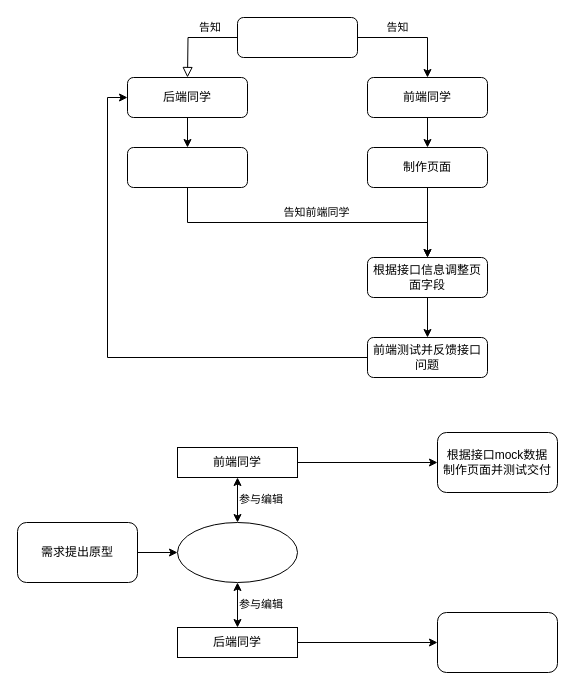
This 575x690 diagram has some shape labels left out. The centre of each missing label's shape, as x and y in pixels:
定义接口信息: point (237, 552)
根据接口开发调试 编写实体类业务逻辑: point (497, 642)
设计输出接口信息: point (187, 167)
需求人提出原型: point (297, 37)
